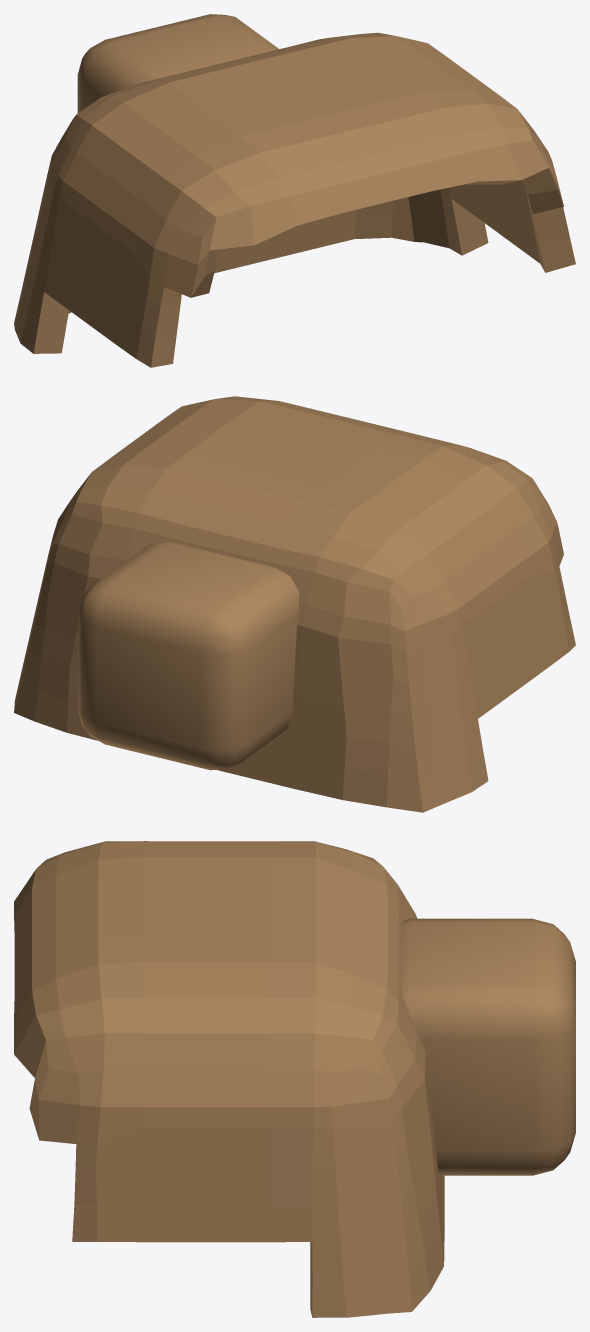
Rendered from hair-topbun-brown.glb.
3 views of the same model, one above another, from view 1: azimuth 30°, elevation 25°; view 2: azimuth 150°, elevation 25°; view 3: azimuth 270°, elevation 25° (orthographic). The views are drawn at different scales.
Visible parts, largest first — view 1: hair_shell, hair_bun_back; view 2: hair_shell, hair_bun_back; view 3: hair_shell, hair_bun_back.
Boxes of the visible parts, x1,y1,x2,y2 form: hair_shell: (14,32,575,367); hair_bun_back: (77,14,278,112); hair_shell: (14,396,575,812); hair_bun_back: (77,542,299,770); hair_shell: (14,841,444,1317); hair_bun_back: (401,918,575,1175).
Bounding box in the file's own units: 0.458 × 0.2396 × 0.418.
